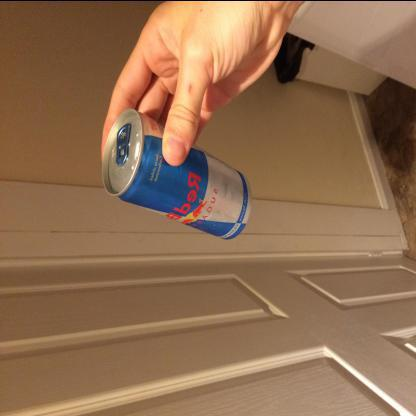metal: (102, 109, 254, 242)
